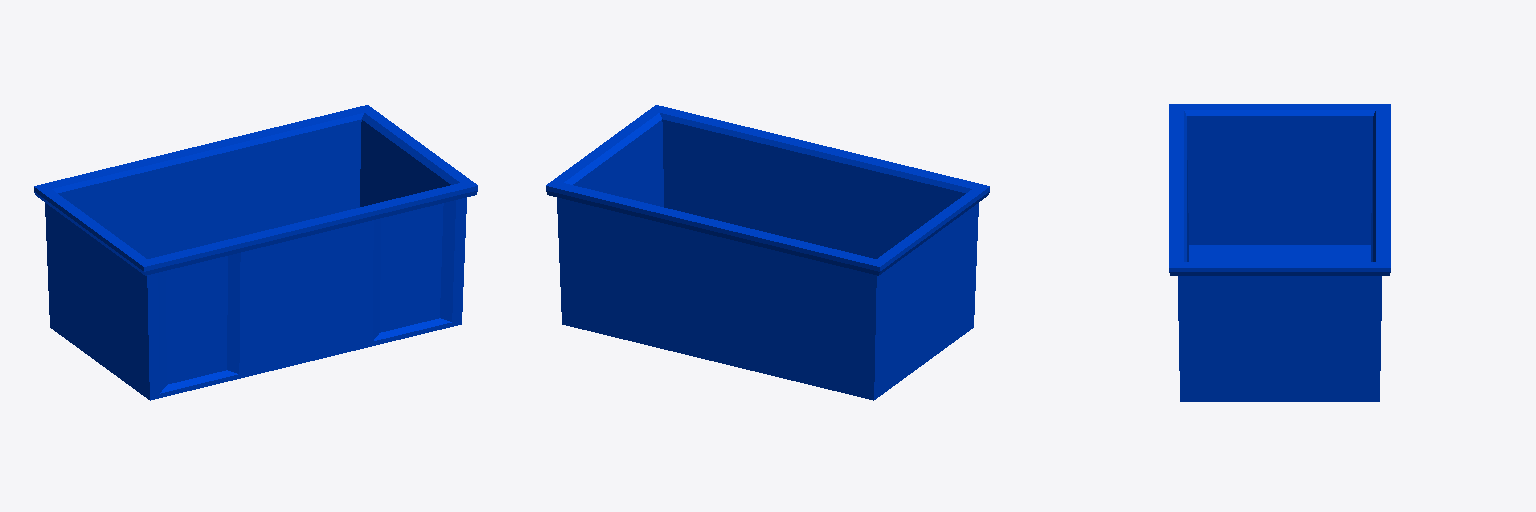
File: PlasticContainer.obj
3 renders of one model, left to right at view 1: azimuth 30°, elevation 25°; view 2: azimuth 150°, elevation 25°; view 3: azimuth 270°, elevation 25°, orthographic.
Visible parts, largest first — view 1: Cube1; view 2: Cube1; view 3: Cube1.
Part boxes in pixels (left/top/right/bottom): Cube1: left=34, top=105, right=477, bottom=400; Cube1: left=546, top=105, right=989, bottom=400; Cube1: left=1169, top=104, right=1390, bottom=401.
Size of the model in its own units: 3.76 by 1.51 by 2.16.